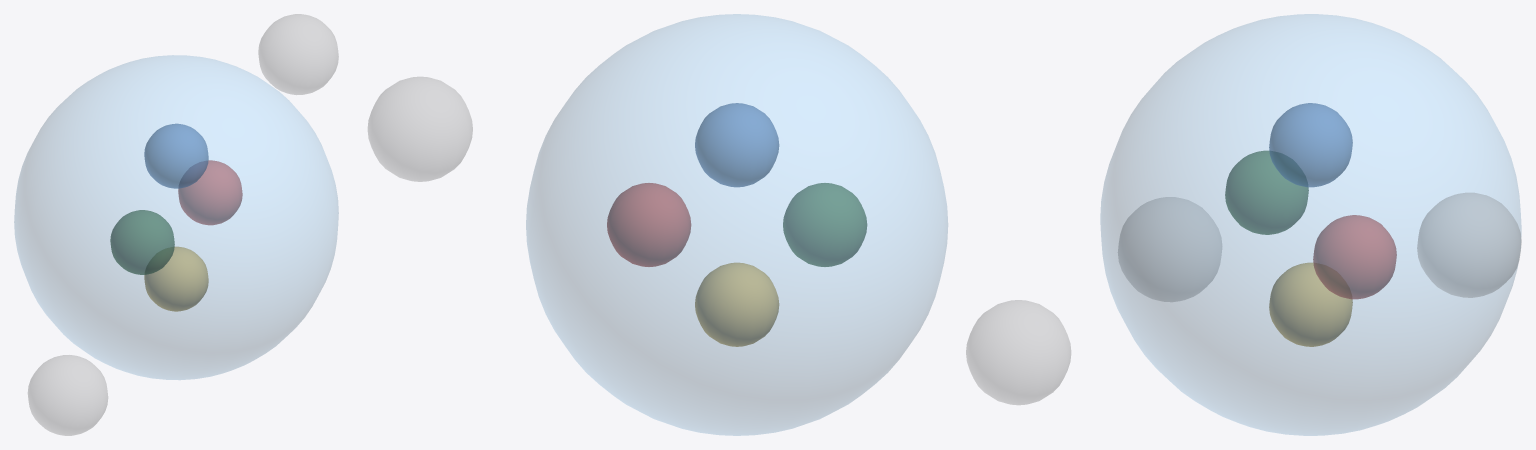
The model's file is bubble.glb.
3 views of the same model, side by side, from view 1: azimuth 30°, elevation 25°; view 2: azimuth 150°, elevation 25°; view 3: azimuth 270°, elevation 25° (orthographic). The views are drawn at different scales.
Bounding box in the file's own units: 1.77 × 1.2 × 1.2.
